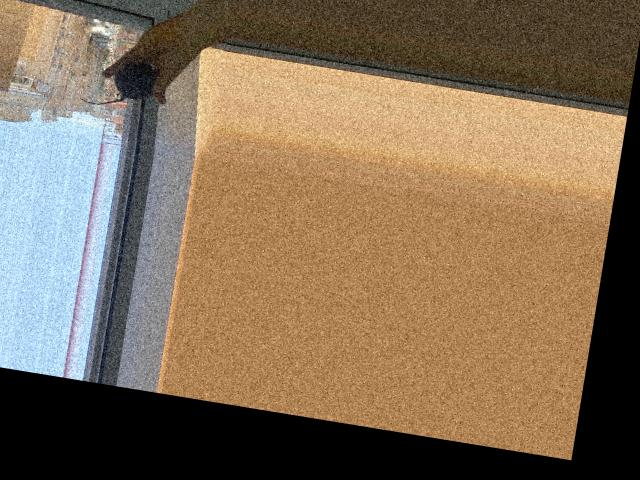beet: (78, 53, 156, 113)
